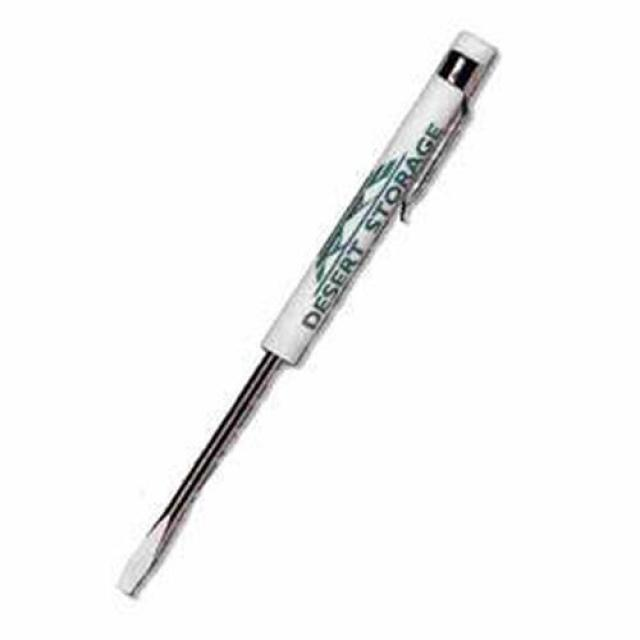screw driver: (56, 29, 556, 612)
